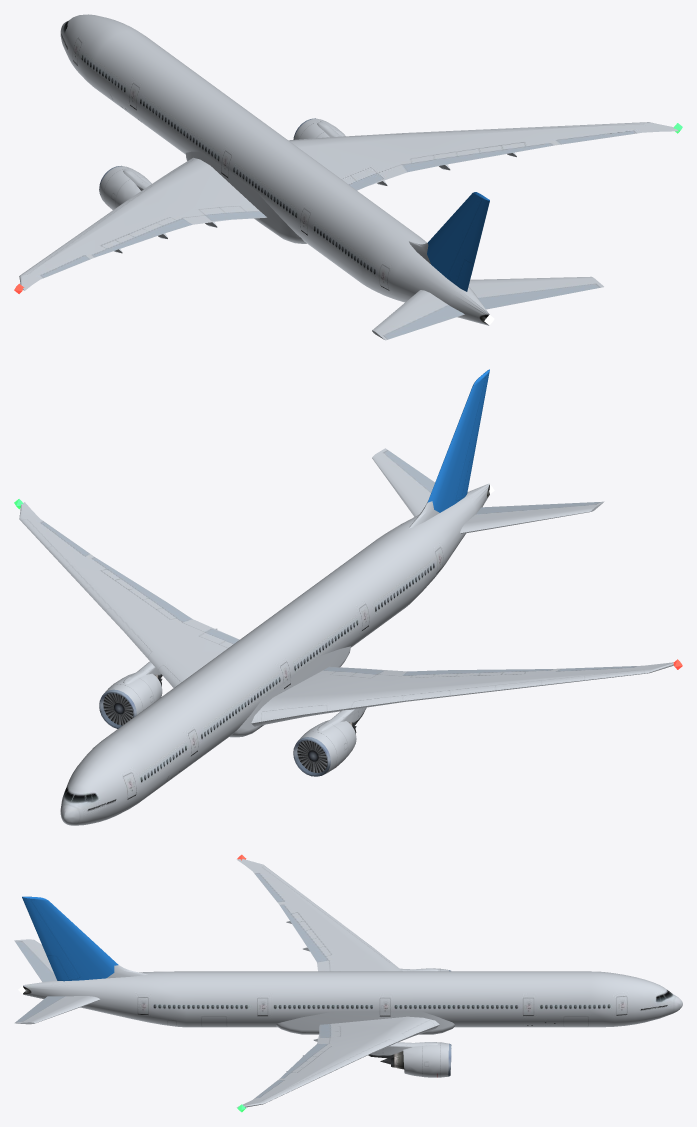
The picture shows the model from 3 angles, top to bottom: view 1: azimuth 30°, elevation 25°; view 2: azimuth 150°, elevation 25°; view 3: azimuth 270°, elevation 25°; orthographic projection. The views are drawn at different scales.
Parts seen in each view (by area): view 1: b77w; view 2: b77w; view 3: b77w.
Boxes of the visible parts, x1=… form: b77w: x1=14, y1=14, x2=682, y2=340; b77w: x1=14, y1=369, x2=682, y2=825; b77w: x1=14, y1=854, x2=682, y2=1112.
Size of the model in its own units: 66.25 by 17.35 by 73.86.
5 materials, 2 textured.
